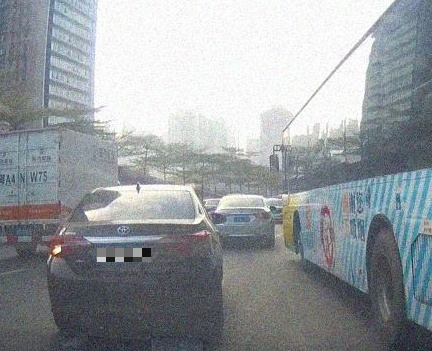L_light: (48, 235, 94, 255)
R_light: (165, 230, 213, 254)
T_light: (123, 191, 151, 197)
day-left: (47, 186, 218, 335)
plate_1: (97, 248, 151, 262)
